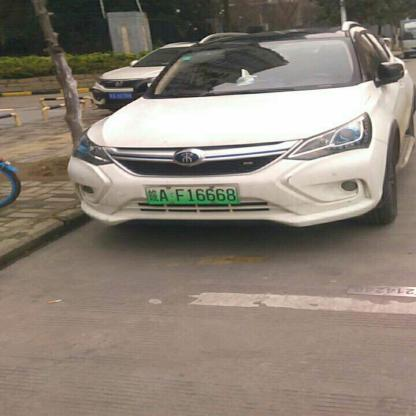lp: (144, 184, 239, 204)
